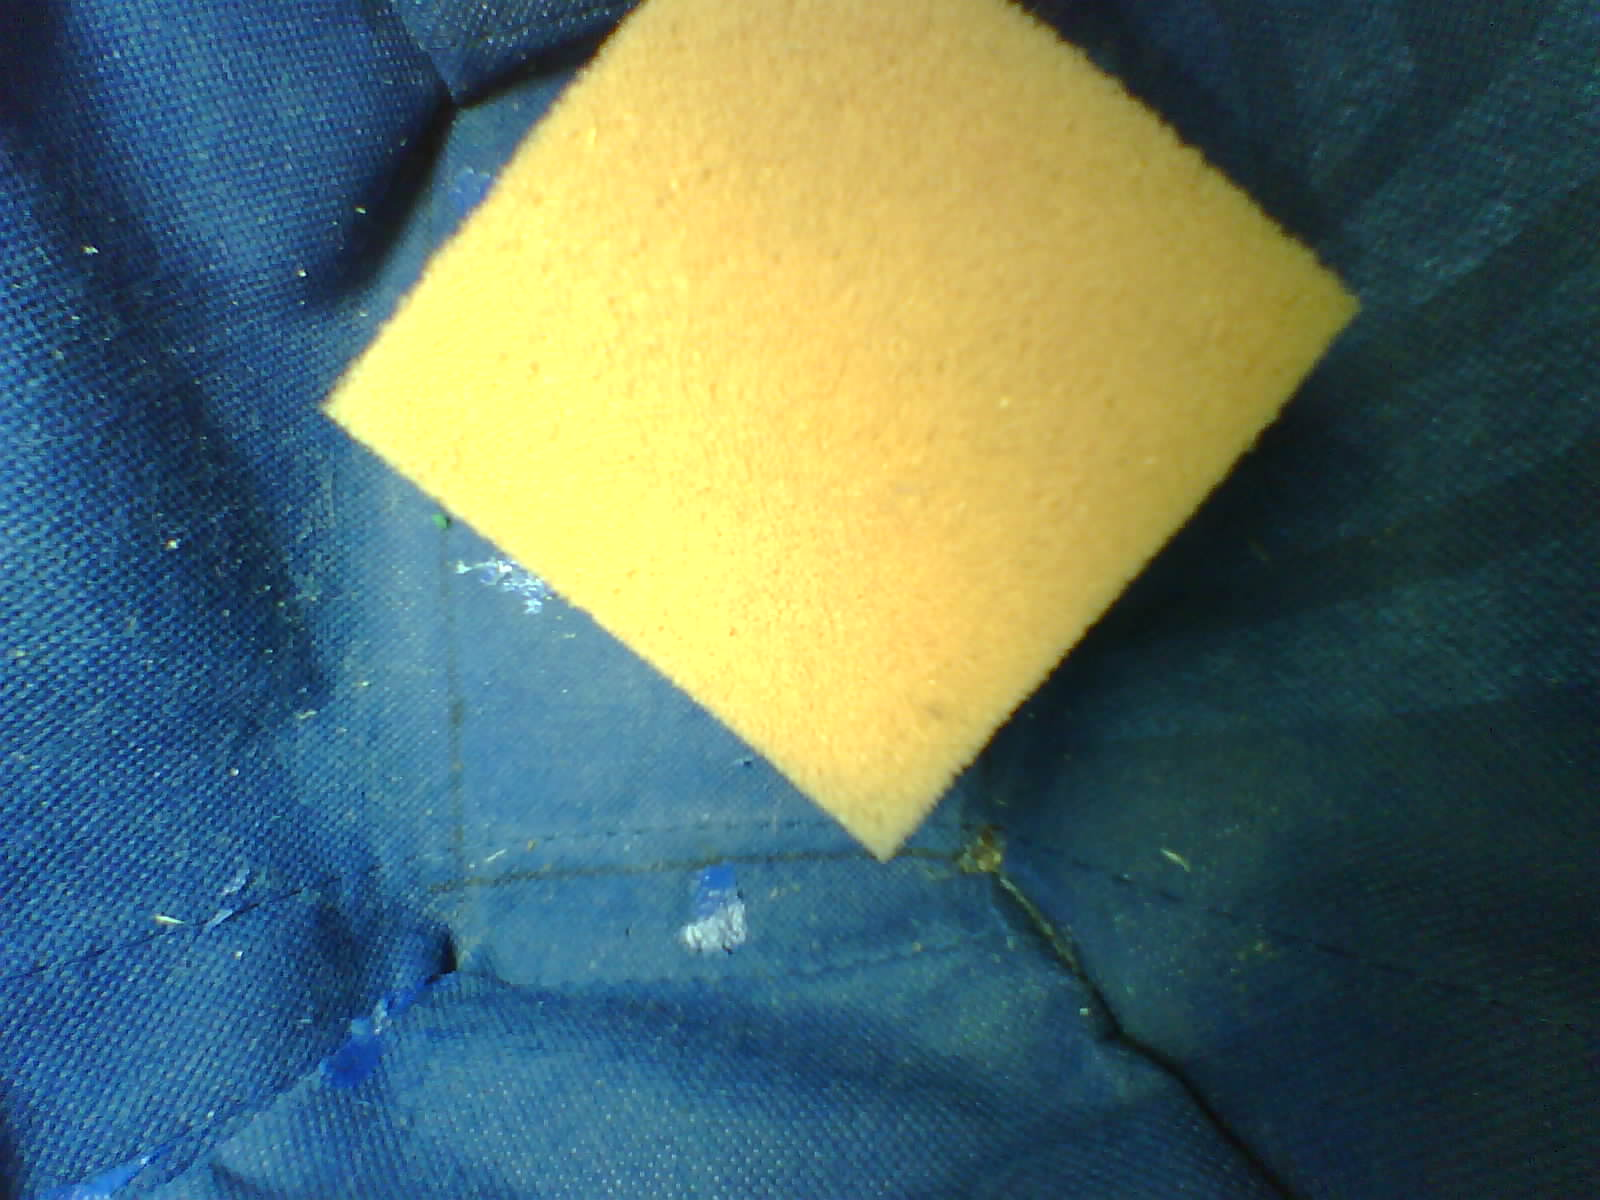cube-soft: (292, 0, 1382, 895)
